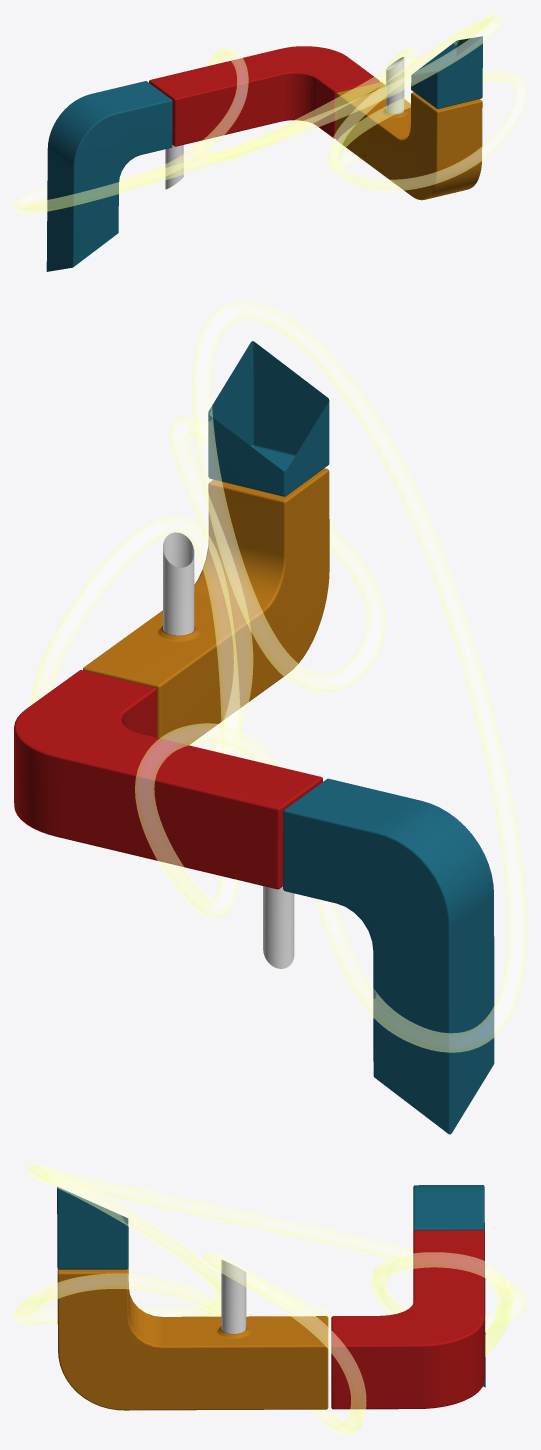
3 views of the same model, one above another, from view 1: azimuth 30°, elevation 25°; view 2: azimuth 150°, elevation 25°; view 3: azimuth 270°, elevation 25° (orthographic). The views are drawn at different scales.
Visible parts, largest first — view 1: group1_1_0, wire_11_0, group3_5_0, group2_3_0, strebe_7_0; view 2: group1_1_0, wire_11_0, group3_5_0, group2_3_0, strebe_7_0; view 3: group2_3_0, wire_11_0, group3_5_0, group1_1_0, strebe_7_0.
Boxes of the visible parts, x1=… form: group1_1_0: x1=46, y1=36, x2=482, y2=271; wire_11_0: x1=14, y1=14, x2=526, y2=213; group3_5_0: x1=149, y1=46, x2=379, y2=146; group2_3_0: x1=336, y1=82, x2=482, y2=200; strebe_7_0: x1=165, y1=57, x2=404, y2=189; group1_1_0: x1=208, y1=341, x2=494, y2=1134; wire_11_0: x1=30, y1=300, x2=526, y2=1052; group3_5_0: x1=14, y1=670, x2=322, y2=889; group2_3_0: x1=83, y1=468, x2=329, y2=745; strebe_7_0: x1=163, y1=532, x2=294, y2=968; group2_3_0: x1=57, y1=1268, x2=328, y2=1410; wire_11_0: x1=14, y1=1163, x2=526, y2=1435; group3_5_0: x1=331, y1=1230, x2=484, y2=1409; group1_1_0: x1=57, y1=1185, x2=485, y2=1387; strebe_7_0: x1=221, y1=1260, x2=246, y2=1333.
Size of the model in its own units: 0.6921 by 0.5745 by 0.6581.
